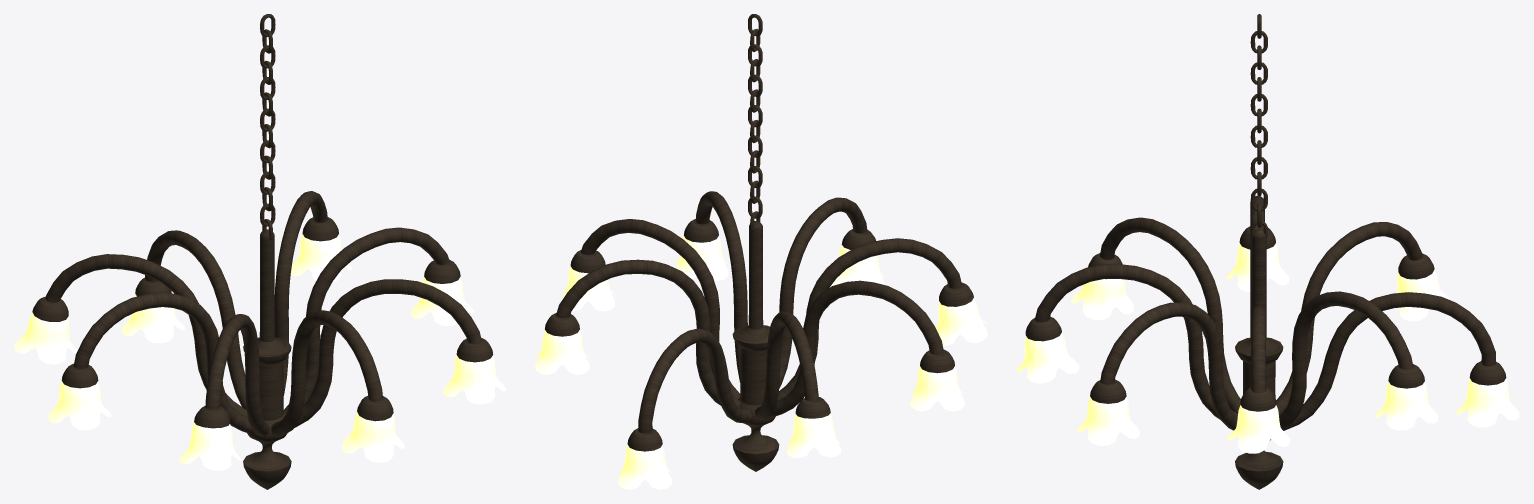
The model's file is chandelier.fbx.
The picture shows the model from 3 angles, left to right: view 1: azimuth 30°, elevation 25°; view 2: azimuth 150°, elevation 25°; view 3: azimuth 270°, elevation 25°; orthographic projection. The views are drawn at different scales.
Parts seen in each view (by area): view 1: Object_18, Object_28, Object_27; view 2: Object_18, Object_28, Object_27; view 3: Object_18, Object_28, Object_27.
Part boxes in pixels (x1,y1,x2,y2): Object_18: (32,191,493,489); Object_28: (14,235,506,470); Object_27: (260,14,275,211); Object_18: (545,191,973,471); Object_28: (535,236,987,489); Object_27: (748,14,762,203); Object_18: (1025,195,1506,489); Object_28: (1016,243,1519,453); Object_27: (1250,14,1267,210).
Bounding box in the file's own units: 366 × 398 × 382.
27 materials, 27 textured.
